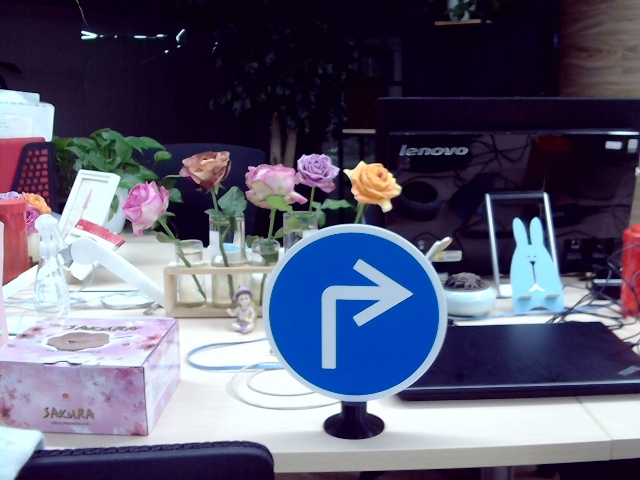turn_right: (306, 256, 417, 365)
